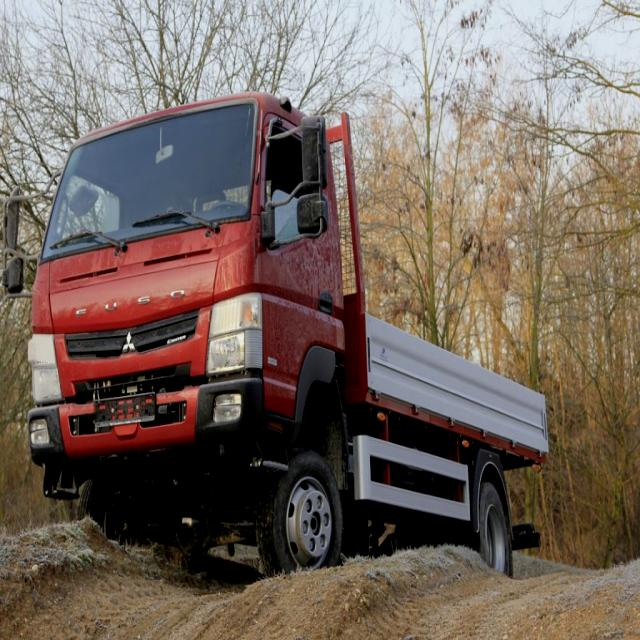truck: (5, 97, 550, 585)
